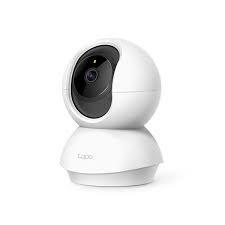CCTV: (61, 39, 163, 187)
